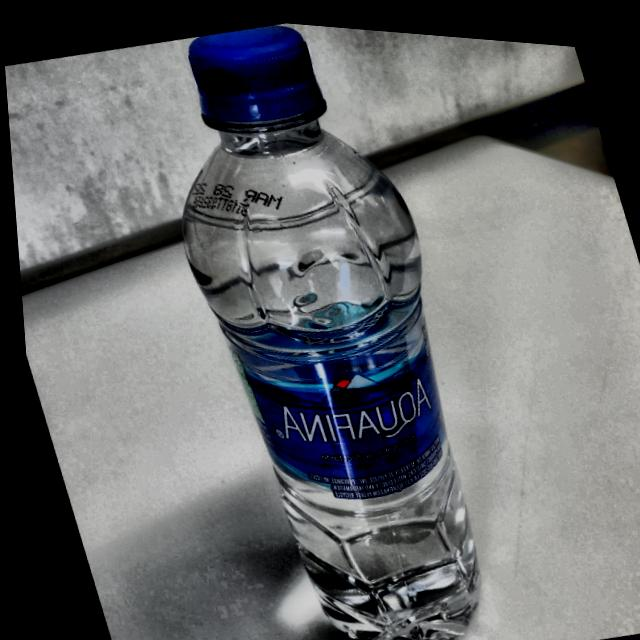Bottles: (112, 7, 540, 640)
